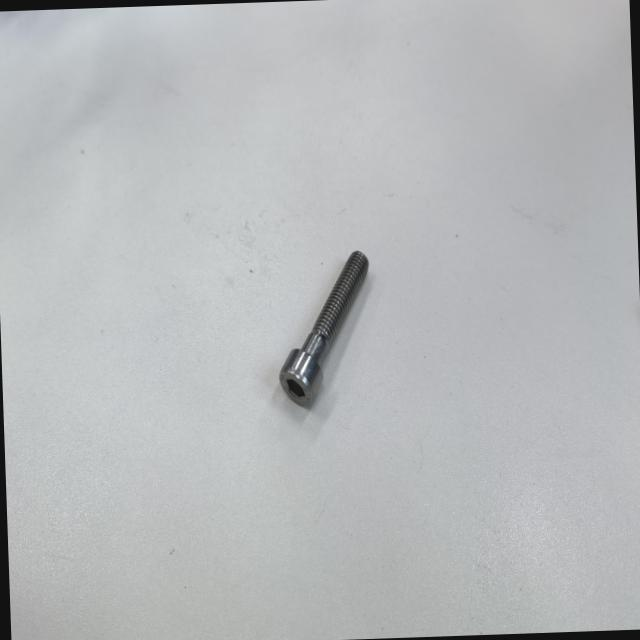screws: (270, 242, 377, 414)
